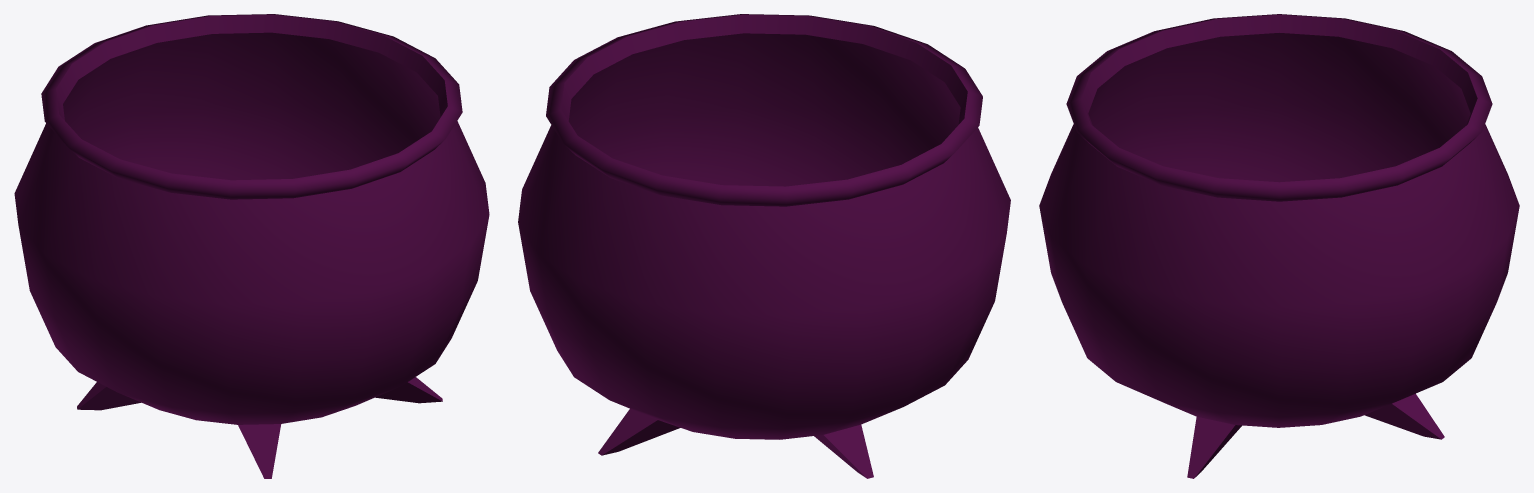
Rendered from newcauldron.fbx.
3 renders of one model, left to right at view 1: azimuth 30°, elevation 25°; view 2: azimuth 150°, elevation 25°; view 3: azimuth 270°, elevation 25°, orthographic. The views are drawn at different scales.
Parts seen in each view (by area): view 1: pSphere1; view 2: pSphere1; view 3: pSphere1.
Boxes of the visible parts, x1,y1,x2,y2 form: pSphere1: (14, 14, 489, 478); pSphere1: (518, 14, 1010, 478); pSphere1: (1039, 14, 1519, 478).
Size of the model in its own units: 2.13 by 1.52 by 2.13.
